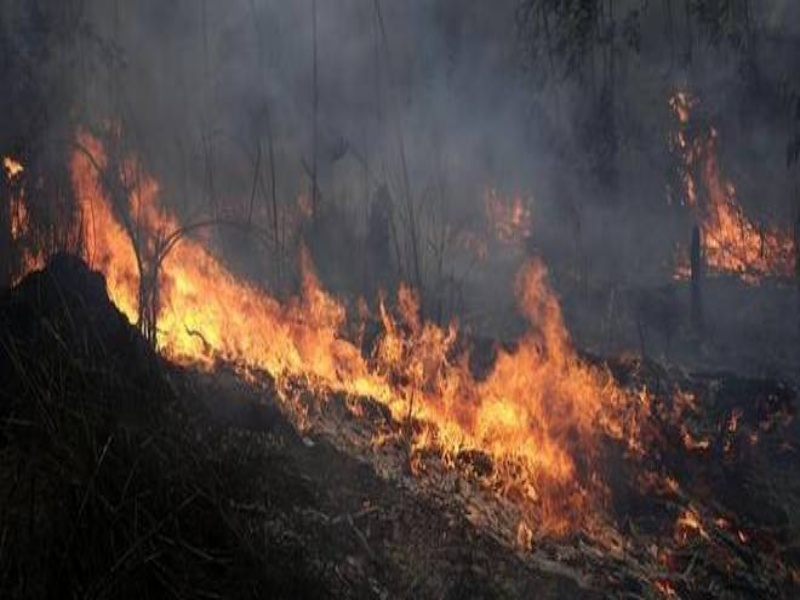smoke: (160, 1, 666, 284)
